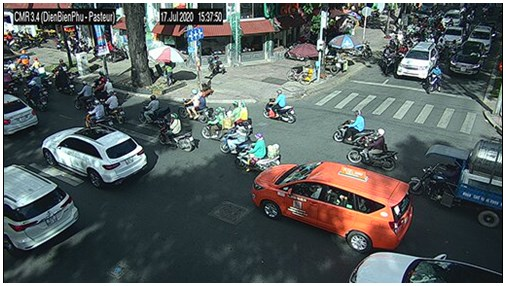xe_ba_gac: (408, 140, 501, 229)
xe_hoi: (249, 161, 414, 251), (4, 164, 79, 255), (41, 126, 148, 188), (349, 251, 502, 282), (396, 41, 439, 79), (4, 94, 39, 138), (449, 42, 486, 75), (469, 25, 492, 52), (438, 26, 464, 47), (440, 10, 463, 26)
xe_may: (348, 127, 398, 171), (236, 132, 282, 171), (158, 111, 195, 153), (333, 109, 375, 144), (201, 106, 234, 140), (263, 88, 294, 124), (139, 95, 172, 126), (179, 89, 209, 123), (227, 101, 253, 136), (85, 99, 110, 128), (106, 90, 125, 124), (25, 84, 45, 111), (96, 74, 115, 102), (74, 81, 93, 108), (426, 64, 443, 94), (55, 70, 74, 95), (383, 48, 397, 78)
